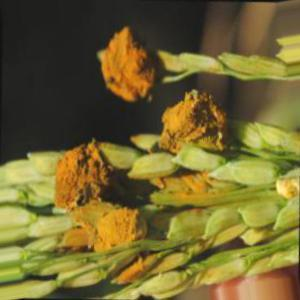False Smut: (101, 35, 168, 107), (52, 145, 108, 225), (157, 99, 226, 150), (74, 210, 148, 254)
